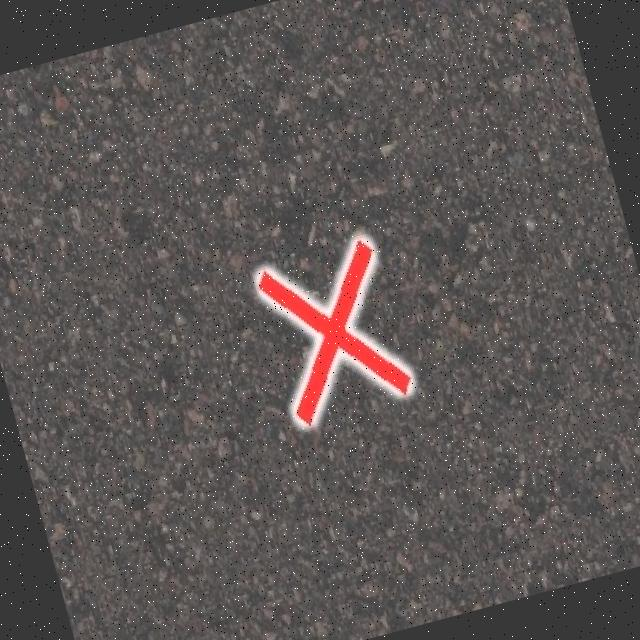x_marker: (253, 236, 413, 425)
